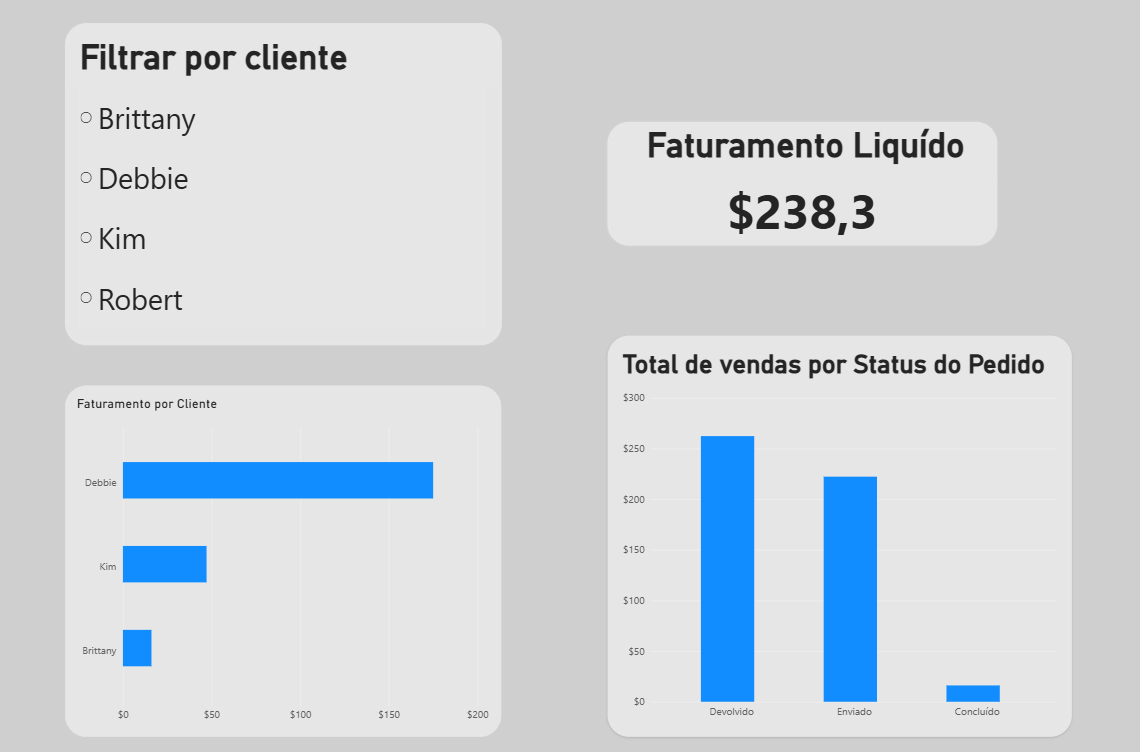

Layout of this report page (visuals, bound fields, positions):
{"tool":"powerbi","page":{"name":"Página 1","canvas":[1920,1080],"ordinal":0},"visuals":[{"type":"columnChart","title":"Total de vendas por Status do Pedido","fields":{"Category":["Consulta.status_pedido"],"Y":["Sum(Consulta.preco_venda_item)"]},"box":[1070.9,498.8,648.4,559.9],"z":0},{"type":"listSlicer","title":"Filtrar por cliente ","fields":{"Values":["Consulta.nome"]},"box":[314,62.8,609.4,449.3],"z":2},{"type":"cardVisual","title":"Faturamento total ","fields":{"Data":["Consulta.Faturamento Liquido"]},"box":[1070.9,200.6,544.2,172.7],"z":3},{"type":"clusteredBarChart","title":"Faturamento por Cliente","fields":{"Category":["Consulta.nome"],"Y":["Consulta.Faturamento Liquido"]},"box":[314,568.6,608.7,490.1],"z":4}]}

Visuals, with their boxes on the page's 1920x1080 design canvas (x1, y1, x2, y2). These are canvas units, not pixel positions in the 1140x752 screenshot, which may show the page scaled, cropped or inside an application window:
"Total de vendas por Status do Pedido" columnChart: bbox(1071, 499, 1719, 1059)
"Filtrar por cliente " listSlicer: bbox(314, 63, 923, 512)
"Faturamento total " cardVisual: bbox(1071, 201, 1615, 373)
"Faturamento por Cliente" clusteredBarChart: bbox(314, 569, 923, 1059)
